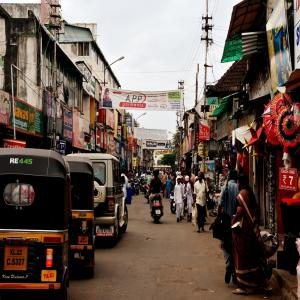Vehicle-registration-plate: (4, 246, 29, 271), (96, 226, 115, 238), (156, 211, 161, 215), (171, 196, 174, 201)
